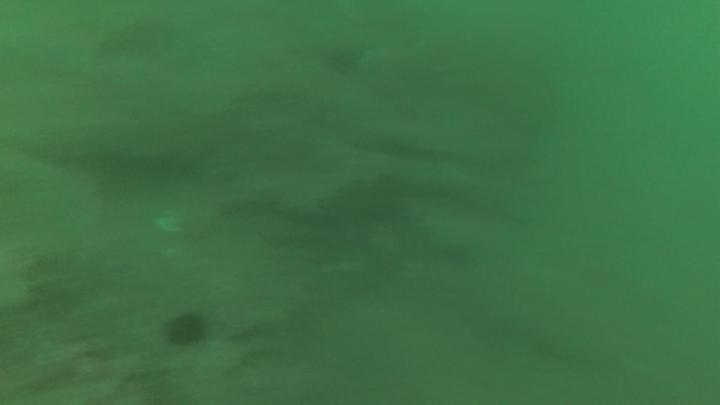echinus: (168, 314, 207, 348)
